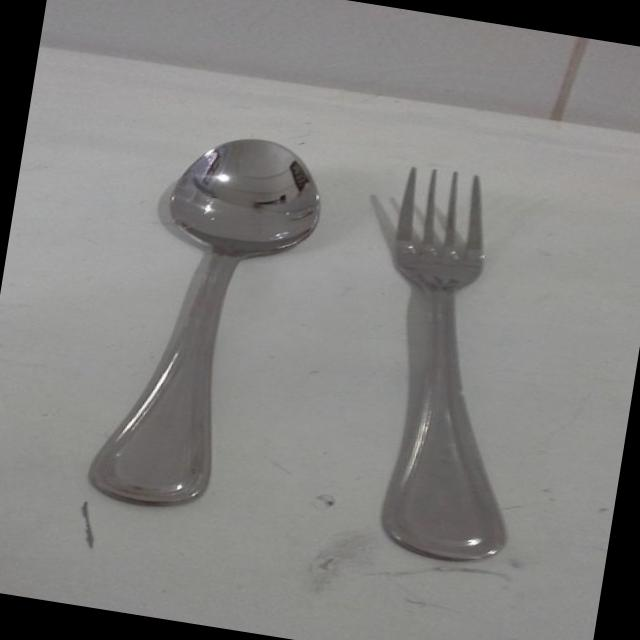fork: (372, 155, 540, 578)
spoon: (46, 110, 336, 535)
